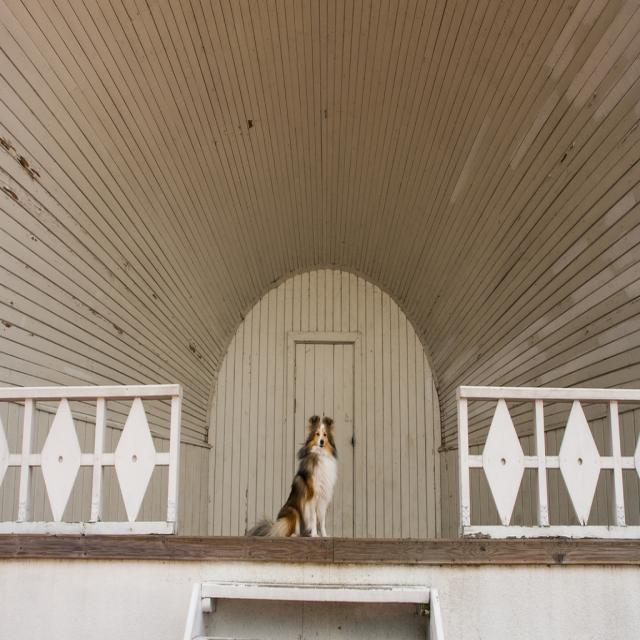Dog: (242, 414, 340, 537)
